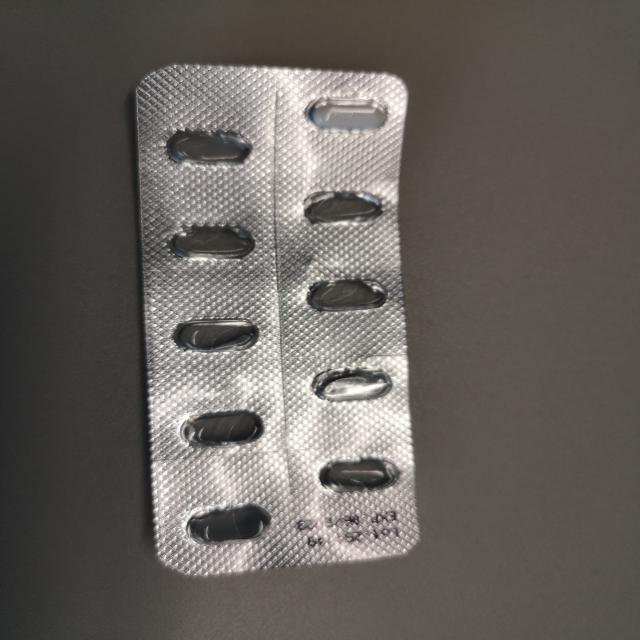Empty: (163, 123, 259, 171), (180, 501, 278, 548), (172, 405, 268, 450), (162, 219, 257, 264), (170, 311, 262, 357), (307, 362, 398, 407), (297, 274, 394, 316), (298, 187, 391, 230), (313, 452, 403, 496)
Pill: (300, 91, 397, 136)
